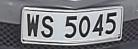0: (77, 13, 92, 39)
4: (91, 12, 106, 37)
5: (63, 14, 78, 40), (104, 11, 118, 38)
S: (39, 12, 55, 42)
W: (26, 13, 41, 40)
